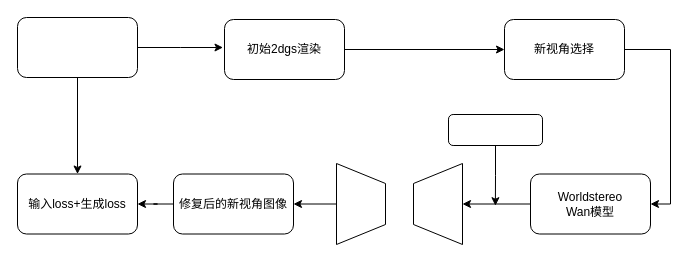
The diagram is 696 pixels wide and 262 high, and some of its shapes have lost their labels. The box of each missing label's shape, as (x1, y1, x2, y2) in pixels:
三状态掩码: (448, 114, 542, 146)
稀疏视图: (16, 16, 138, 78)
